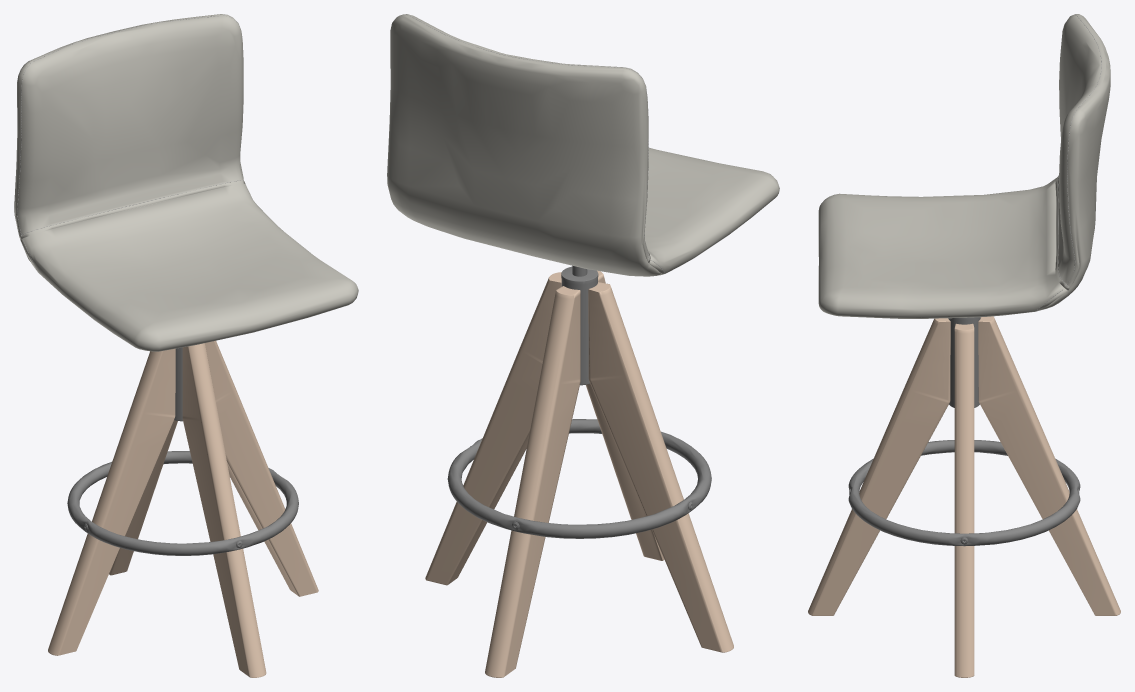
Rendered from banqueta-prince.glb.
The picture shows the model from 3 angles, left to right: view 1: azimuth 30°, elevation 25°; view 2: azimuth 150°, elevation 25°; view 3: azimuth 270°, elevation 25°; orthographic projection. The views are drawn at different scales.
Size of the model in its own units: 0.4747 by 0.9202 by 0.4747.
